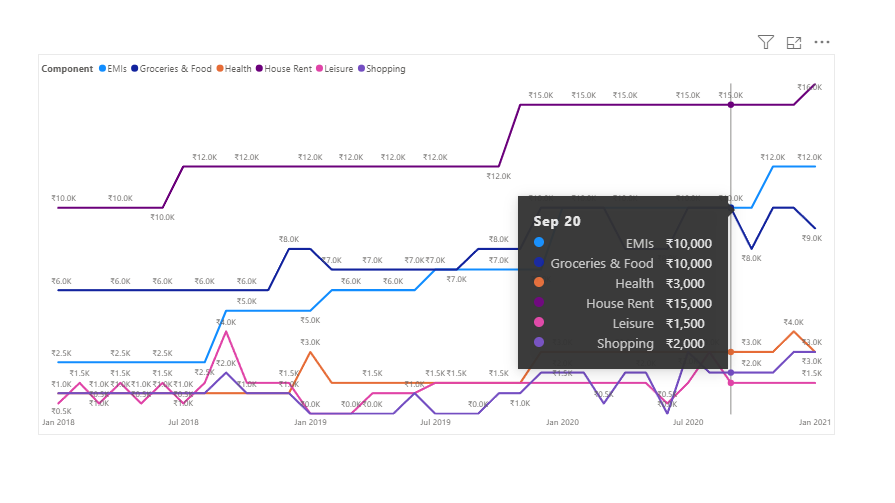

The page's visual inventory and layout, read from the dashboard file:
{"tool":"powerbi","page":{"name":"TT1","canvas":[1280,720],"ordinal":1},"visuals":[{"type":"lineChart","fields":{"Series":["FinData.Component"],"Category":["FinData.Date"],"Y":["Key Measures.Total Expense"]},"box":[54.4,77.2,1139.1,544.3],"z":0}]}

Visuals, with their boxes on the page's 1280x720 design canvas (x1, y1, x2, y2). These are canvas units, not pixel positions in the 895x503 screenshot, which may show the page scaled, cropped or inside an application window:
lineChart - FinData.Component x FinData.Date: (54, 77, 1194, 622)
